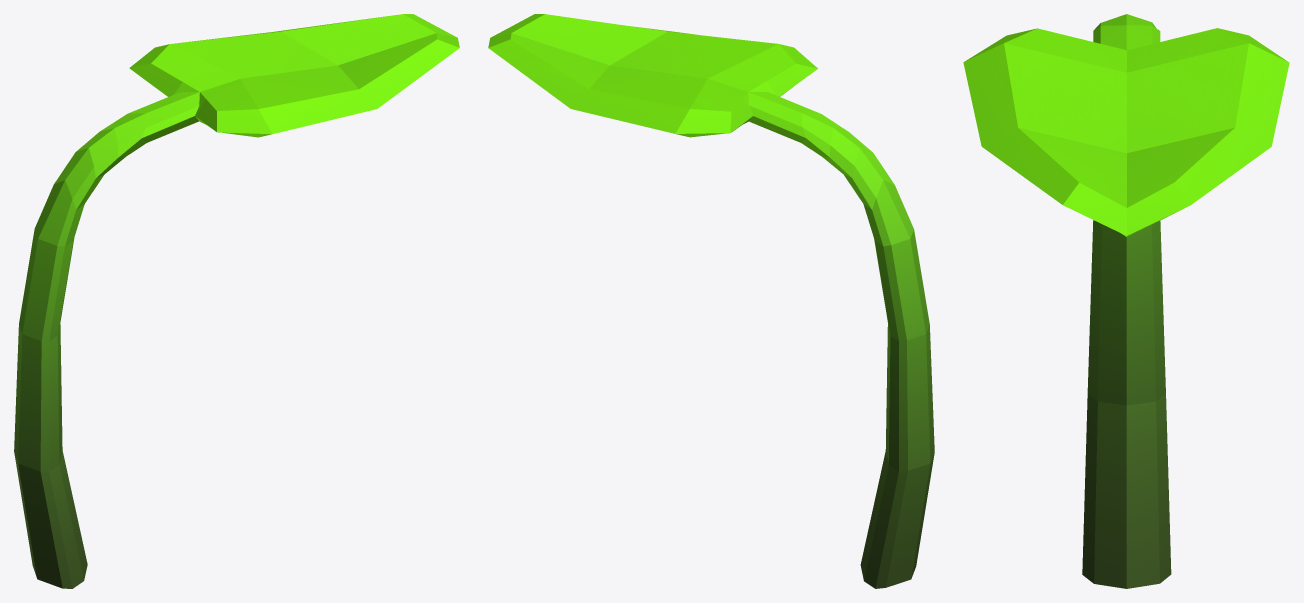
The model's file is objPlatform2.fbx.
3 views of the same model, side by side, from view 1: azimuth 30°, elevation 25°; view 2: azimuth 150°, elevation 25°; view 3: azimuth 270°, elevation 25° (orthographic). The views are drawn at different scales.
Parts seen in each view (by area): view 1: pCube1; view 2: pCube1; view 3: pCube1.
Boxes of the visible parts, x1,y1,x2,y2 form: pCube1: (14, 14, 459, 588); pCube1: (488, 14, 934, 588); pCube1: (963, 14, 1289, 588).
Bounding box in the file's own units: 578 × 581 × 269.
